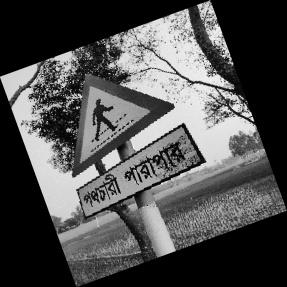Pedestrian-crossing: (70, 73, 204, 217)
